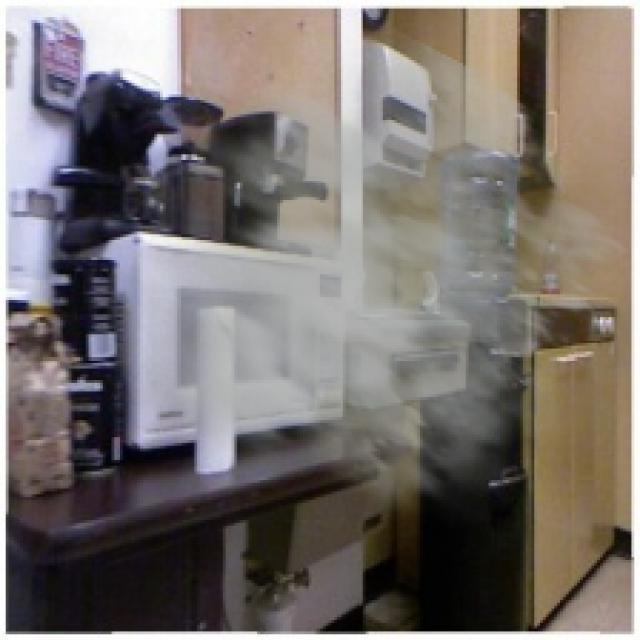Smoke: (79, 14, 632, 534)
